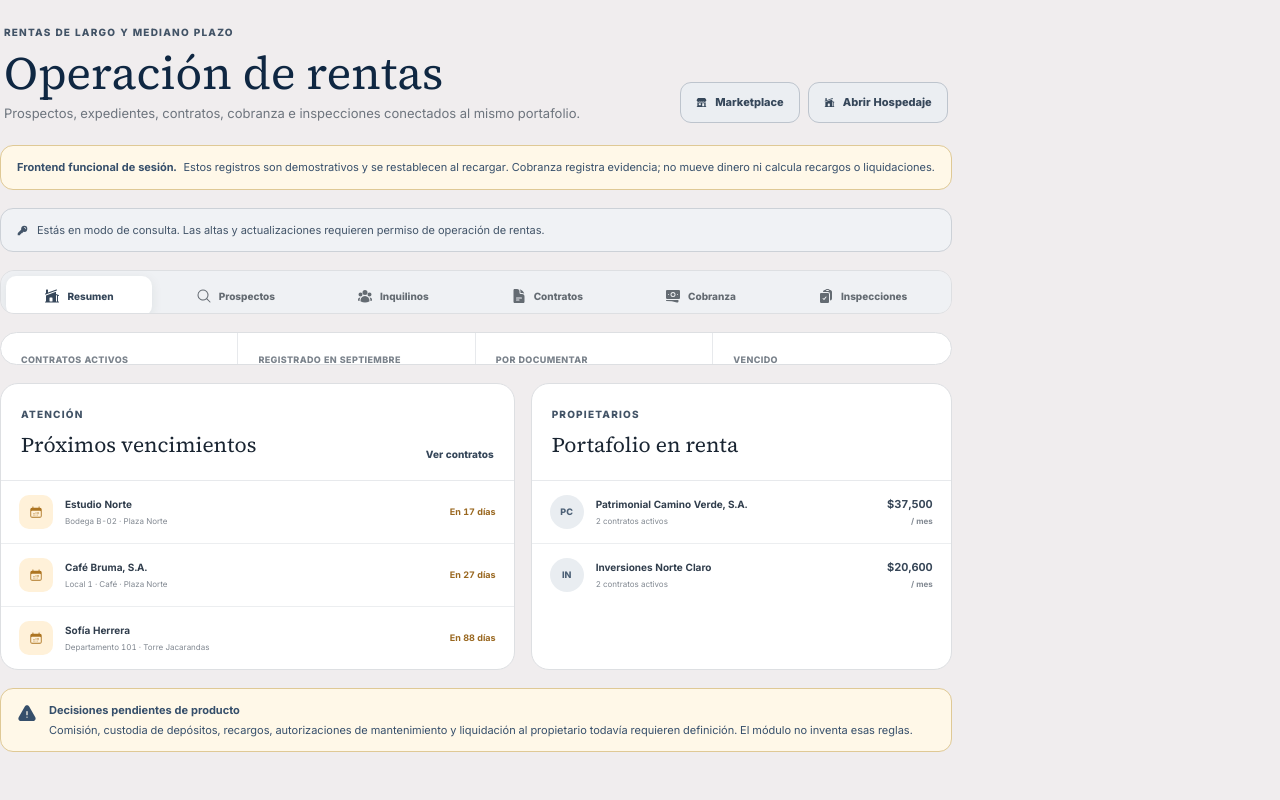
Test: RentOperationsPage › bloquea las acciones de escritura para un viewer
The image size is (1280, 800).
Check: the text "Estás en modo de consulta" is shown, box top-left (37, 223), bottom-right (544, 237)
Click the button "Prospectos": x=235, y=296 top-left (157, 276), bottom-right (314, 316)
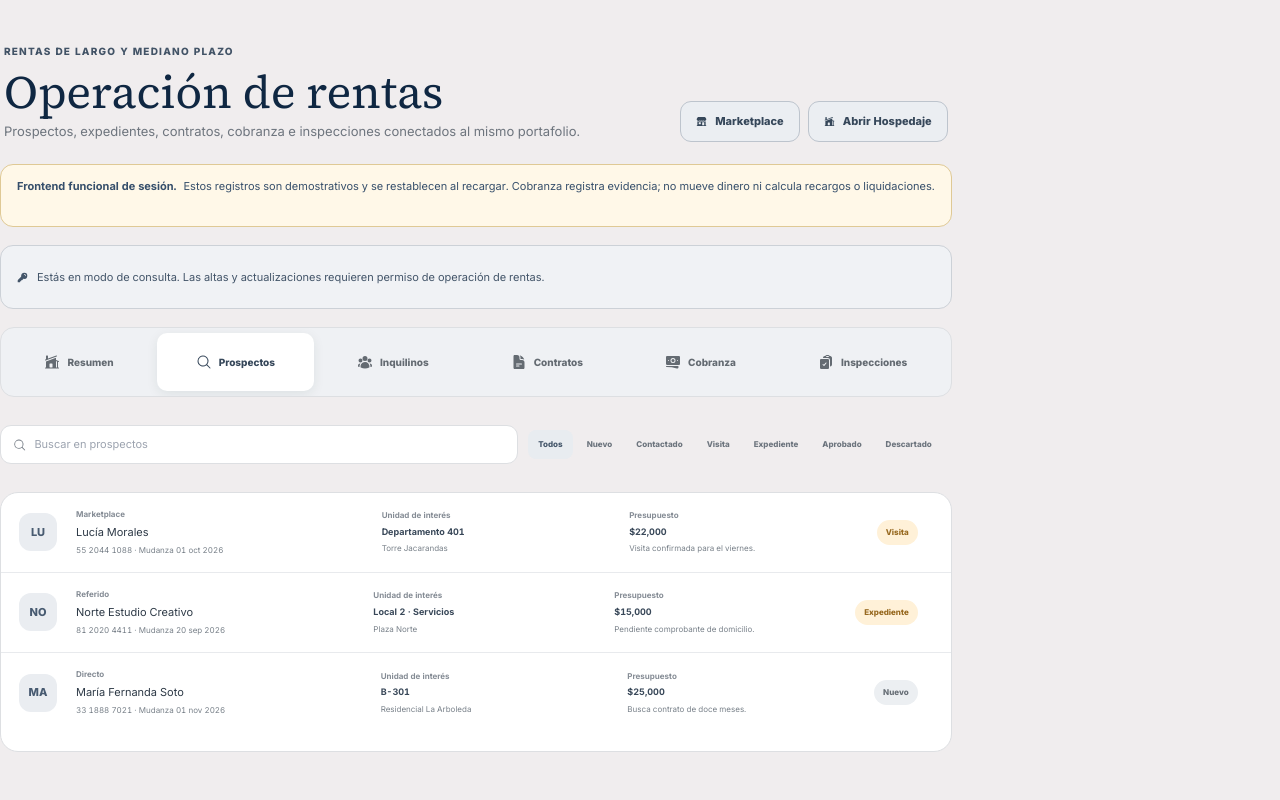
Check: the button "Nuevo" is shown, box top-left (577, 430), bottom-right (622, 459)
